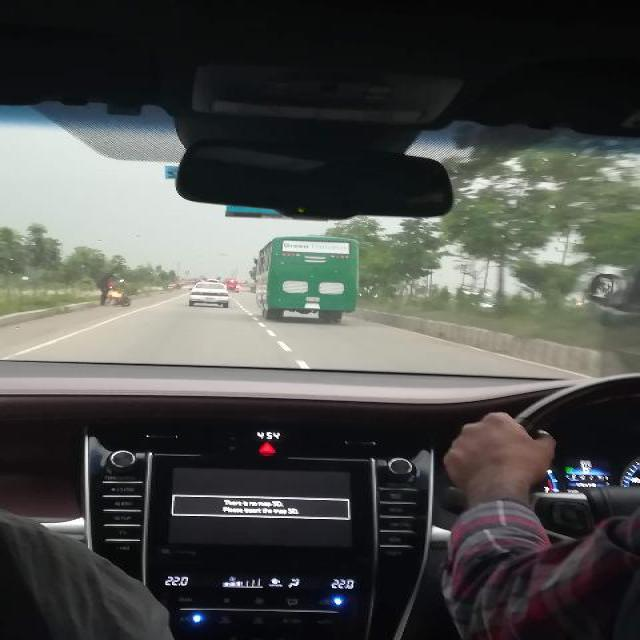bus: (255, 236, 358, 322)
car: (187, 281, 229, 307)
motorbike: (110, 287, 130, 307)
